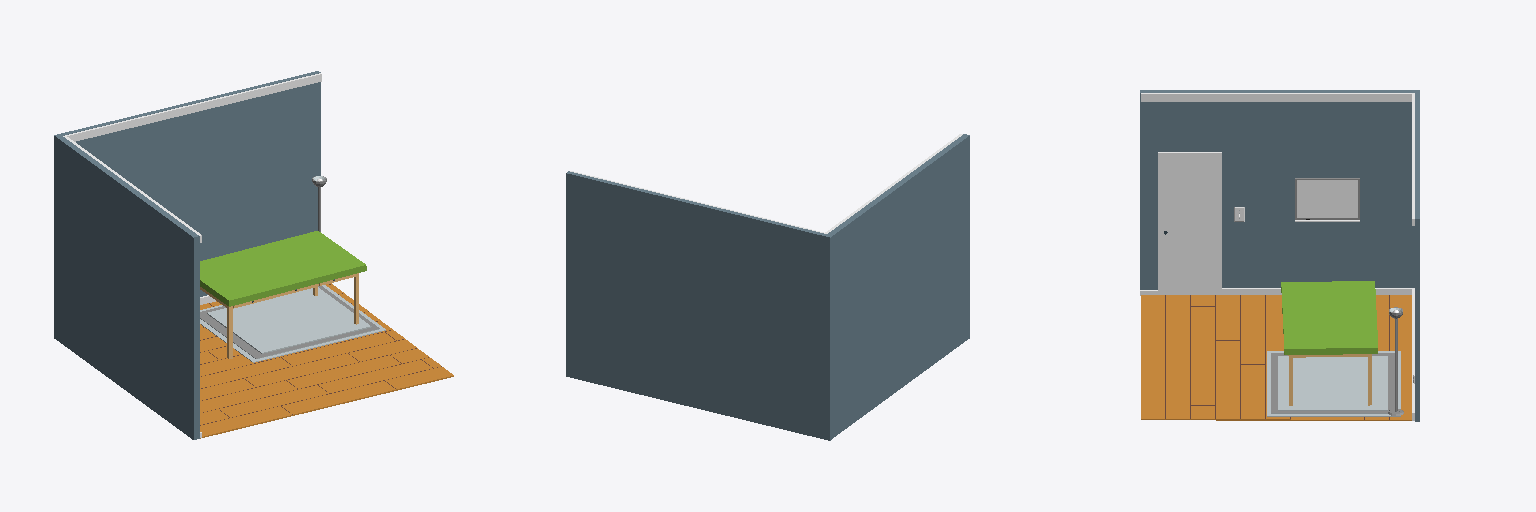
3 renders of one model, left to right at view 1: azimuth 30°, elevation 25°; view 2: azimuth 150°, elevation 25°; view 3: azimuth 270°, elevation 25°, orthographic.
Visible parts, largest first — view 1: group[number redacted], group[number redacted], group[number redacted], group[number redacted], group[number redacted], group[number redacted], group[number redacted], group[number redacted], group[number redacted], group[number redacted], group[number redacted], group[number redacted] (+1 smaller); view 2: group[number redacted], group[number redacted]; view 3: group[number redacted], group[number redacted], group[number redacted], group[number redacted], group[number redacted], group[number redacted], group[number redacted], group[number redacted], group[number redacted], group[number redacted], group[number redacted], group[number redacted] (+6 smaller).
Part boxes in pixels (x1,y1,x2,y2): group[number redacted]: (54, 71, 320, 439); group[number redacted]: (200, 231, 366, 306); group[number redacted]: (207, 287, 371, 353); group[number redacted]: (200, 366, 453, 438); group[number redacted]: (200, 357, 440, 424); group[number redacted]: (200, 348, 428, 412); group[number redacted]: (63, 73, 321, 242); group[number redacted]: (200, 339, 416, 400); group[number redacted]: (200, 330, 404, 388); group[number redacted]: (200, 286, 379, 358); group[number redacted]: (200, 285, 385, 362); group[number redacted]: (200, 273, 358, 358); group[number redacted]: (566, 134, 969, 440); group[number redacted]: (570, 134, 962, 233); group[number redacted]: (1140, 90, 1419, 421); group[number redacted]: (1160, 155, 1219, 294); group[number redacted]: (1281, 281, 1377, 354); group[number redacted]: (1278, 356, 1387, 410); group[number redacted]: (1216, 295, 1240, 420); group[number redacted]: (1241, 295, 1265, 420); group[number redacted]: (1141, 295, 1165, 419); group[number redacted]: (1166, 295, 1190, 419); group[number redacted]: (1191, 295, 1215, 419); group[number redacted]: (1295, 178, 1359, 221); group[number redacted]: (1141, 93, 1414, 225); group[number redacted]: (1390, 295, 1411, 420).
Bounding box in the file's own units: 4.05 × 2.98 × 3.71.